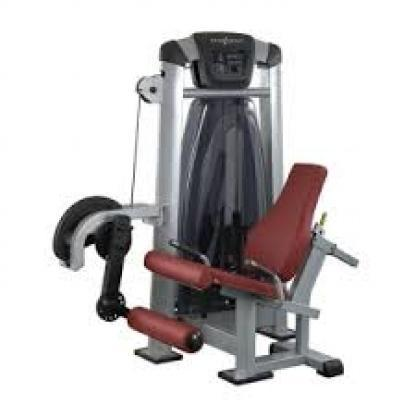leg extension: (46, 23, 360, 387)
